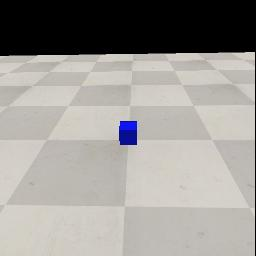box: (119, 121, 137, 145)
